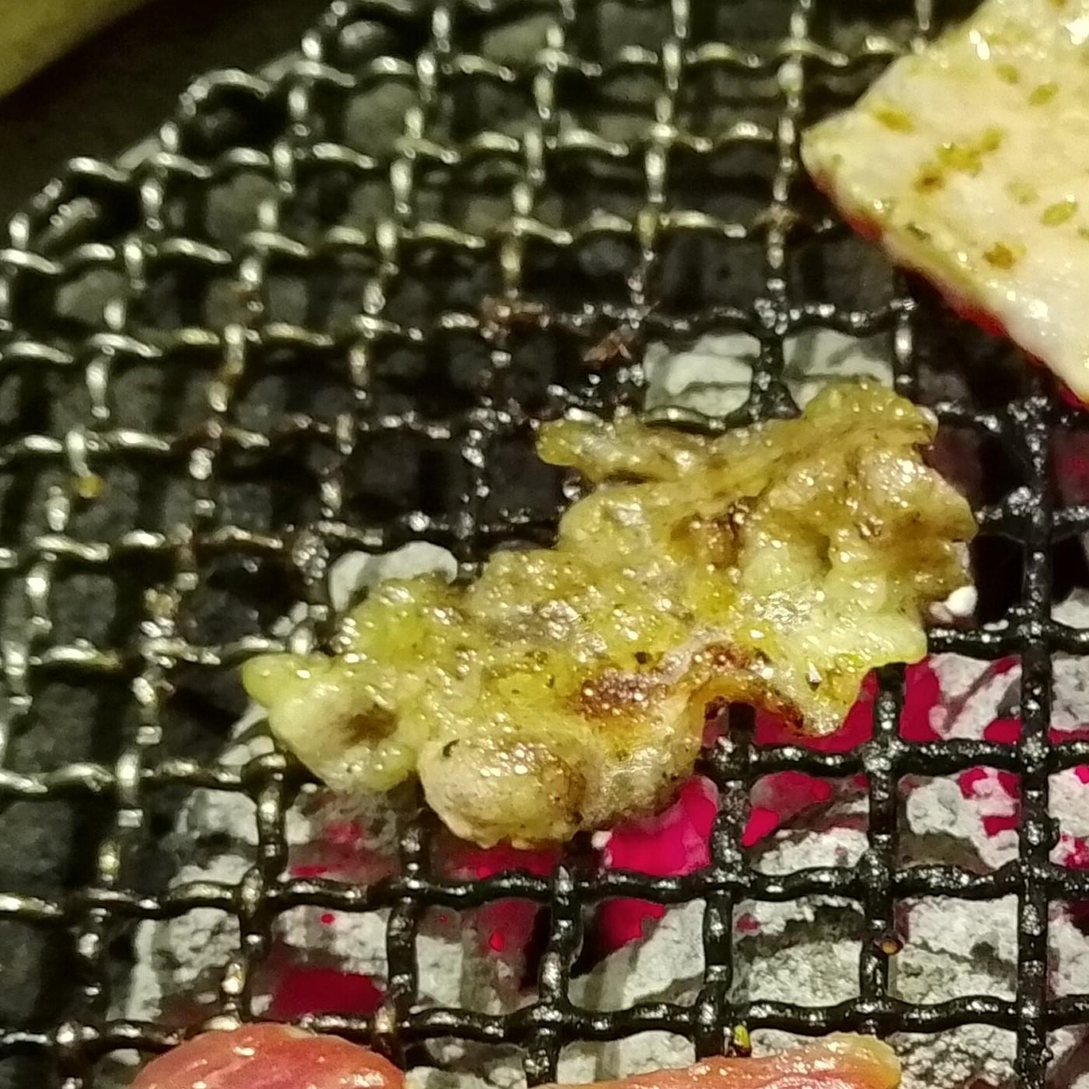Undercooked: (801, 0, 1088, 415), (126, 1025, 410, 1088)
Well-Cooked: (239, 382, 976, 849)
